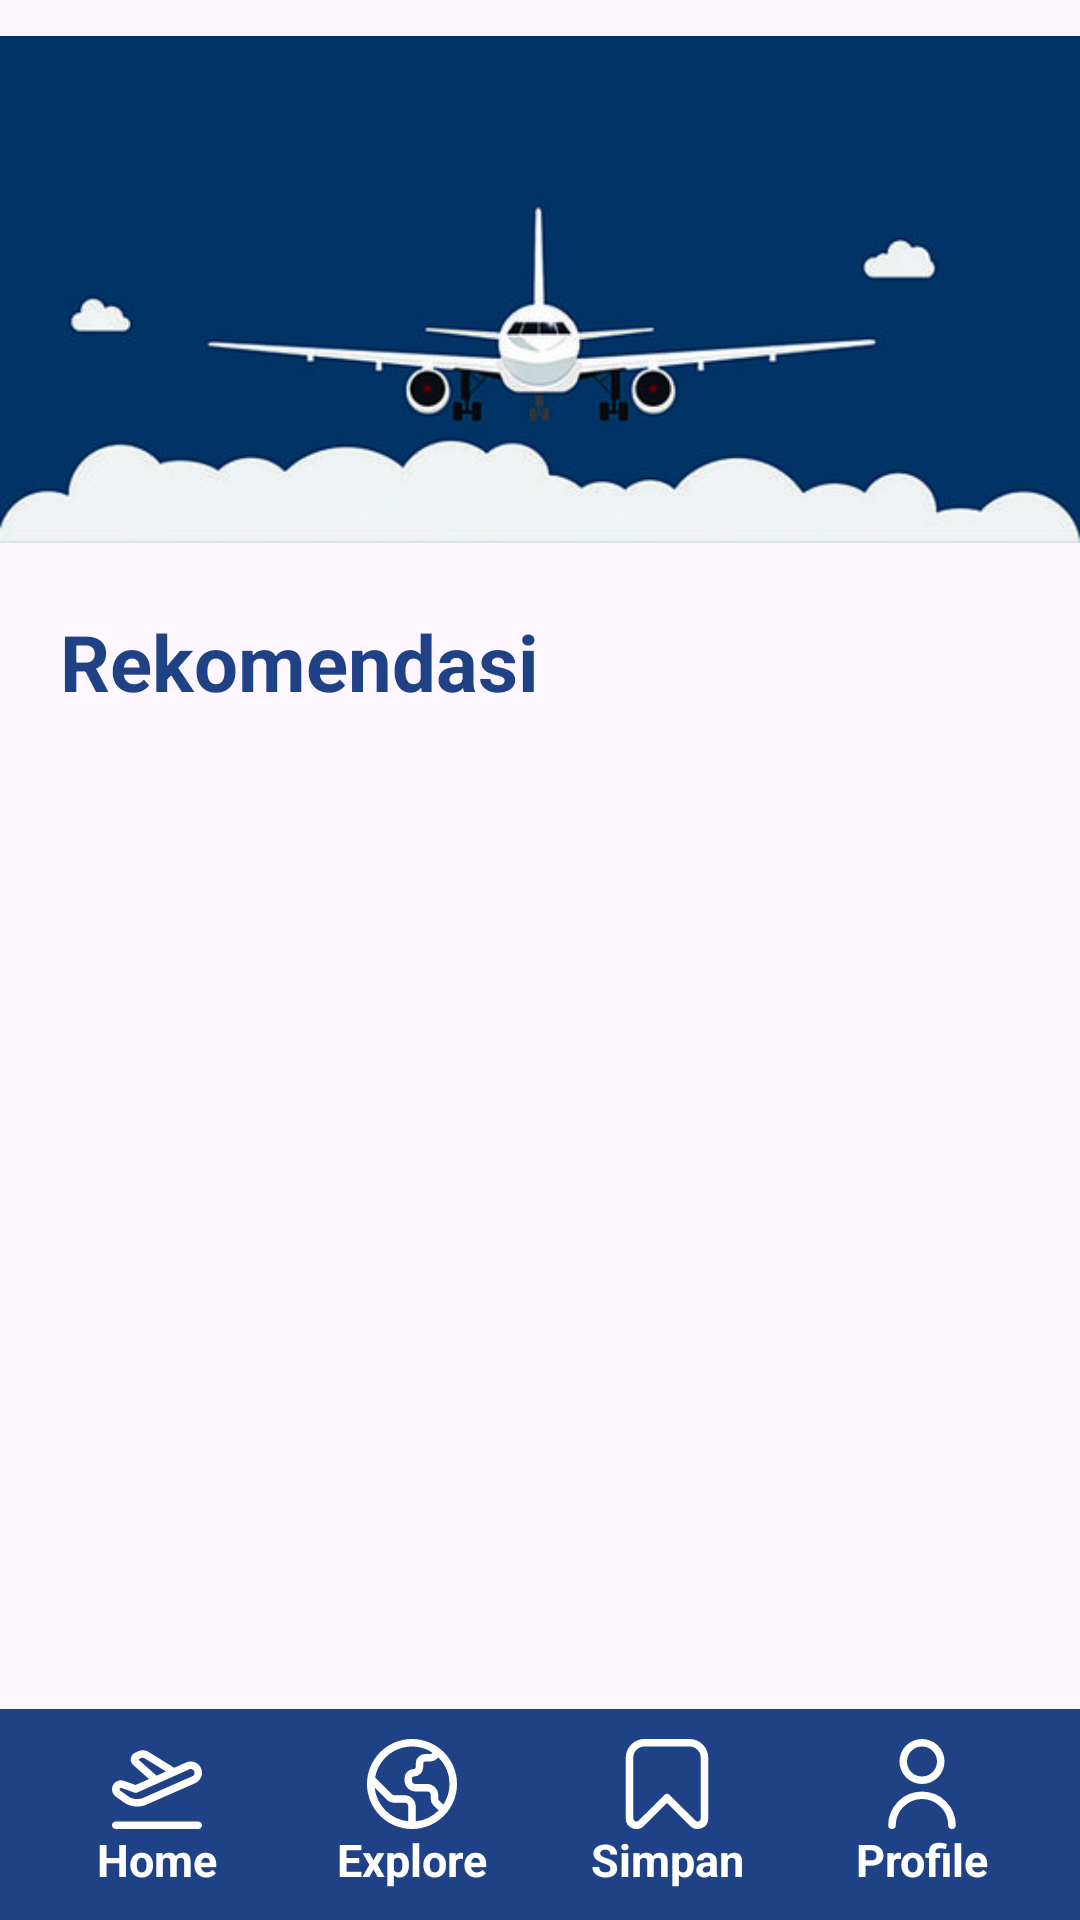

Where to tap for icons on this 1080x1920 app screen, as (x=x, y=y):
plane: (x=157, y=1789)
world: (x=412, y=1784)
